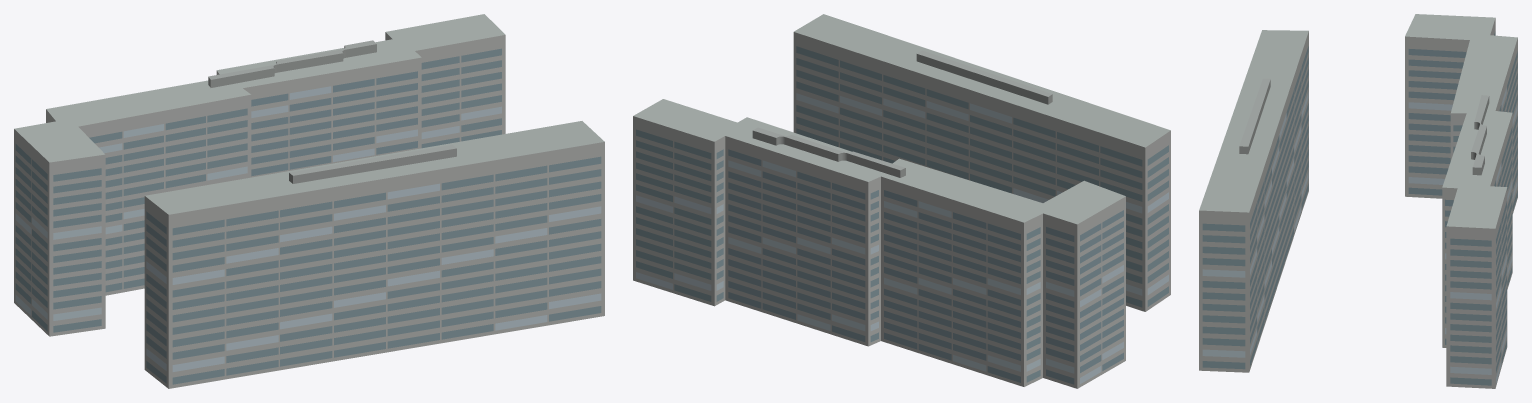
File: apt-a13982003.glb
3 views of the same model, side by side, from view 1: azimuth 30°, elevation 25°; view 2: azimuth 150°, elevation 25°; view 3: azimuth 270°, elevation 25° (orthographic). The views are drawn at different scales.
Parts seen in each view (by area): view 1: apt-a13982003; view 2: apt-a13982003; view 3: apt-a13982003.
Part boxes in pixels (x1,y1,x2,y2): apt-a13982003: (14,14,604,388); apt-a13982003: (633,14,1170,388); apt-a13982003: (1199,14,1517,388).
Size of the model in its own units: 113 by 41 by 70.63.
